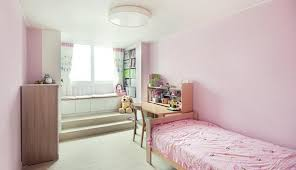Bed: (144, 110, 296, 170)
